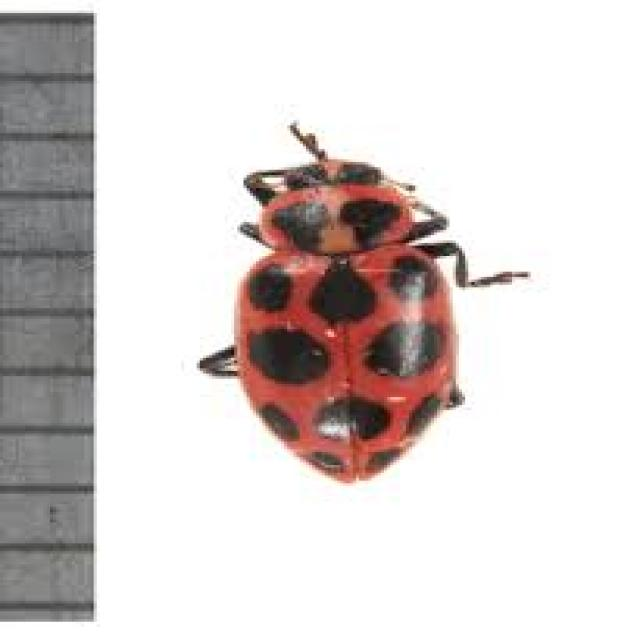bug: (186, 115, 540, 497)
